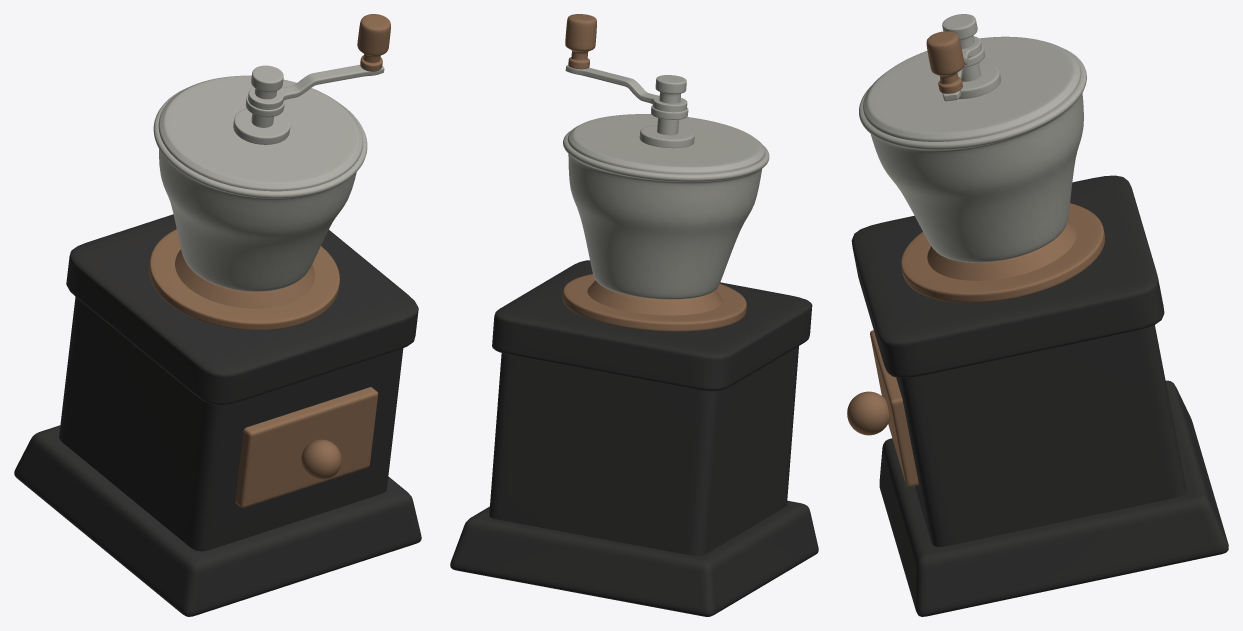
The model's file is vintage-coffee-grinder.glb.
3 renders of one model, left to right at view 1: azimuth 30°, elevation 25°; view 2: azimuth 150°, elevation 25°; view 3: azimuth 270°, elevation 25°, orthographic. The views are drawn at different scales.
Parts seen in each view (by area): view 1: Cube.017, Cube.019, Cube.018, Cylinder.014, Cylinder.015, Cube.020, Cylinder.012, Cylinder.013, Cylinder.019, Cylinder.020, Cylinder.016, Sphere.002 (+1 smaller); view 2: Cube.017, Cube.018, Cylinder.014, Cube.019, Cylinder.015, Cylinder.012, Cylinder.013, Cylinder.020, Cylinder.019, Cylinder.017, Cylinder.016; view 3: Cube.017, Cube.019, Cube.018, Cylinder.014, Cylinder.015, Cylinder.012, Cylinder.013, Cube.020, Cylinder.020, Sphere.002, Cylinder.017, Cylinder.016.
Part boxes in pixels (left/top/right/bottom): Cube.017: left=59, top=297, right=403, bottom=551; Cube.019: left=66, top=214, right=418, bottom=405; Cube.018: left=14, top=425, right=421, bottom=616; Cylinder.014: left=153, top=87, right=367, bottom=291; Cylinder.015: left=158, top=75, right=363, bottom=191; Cube.020: left=235, top=387, right=378, bottom=507; Cylinder.012: left=149, top=229, right=339, bottom=330; Cylinder.013: left=175, top=249, right=314, bottom=308; Cylinder.019: left=248, top=64, right=384, bottom=109; Cylinder.020: left=357, top=14, right=390, bottom=71; Cylinder.016: left=233, top=108, right=290, bottom=144; Sphere.002: left=301, top=439, right=341, bottom=479; Cube.017: left=489, top=346, right=798, bottom=555; Cube.018: left=450, top=500, right=818, bottom=616; Cylinder.014: left=563, top=130, right=769, bottom=299; Cube.019: left=492, top=260, right=812, bottom=391; Cylinder.015: left=567, top=114, right=765, bottom=174; Cylinder.012: left=562, top=274, right=746, bottom=331; Cylinder.013: left=587, top=280, right=722, bottom=315; Cylinder.020: left=565, top=14, right=596, bottom=69; Cylinder.019: left=565, top=65, right=687, bottom=112; Cylinder.017: left=655, top=75, right=686, bottom=135; Cylinder.016: left=639, top=125, right=694, bottom=148; Cube.017: left=896, top=325, right=1186, bottom=546; Cube.019: left=851, top=175, right=1164, bottom=378; Cube.018: left=879, top=380, right=1228, bottom=616; Cylinder.014: left=859, top=49, right=1086, bottom=262; Cylinder.015: left=863, top=36, right=1081, bottom=141; Cylinder.012: left=901, top=203, right=1104, bottom=302; Cylinder.013: left=927, top=220, right=1076, bottom=280; Cube.020: left=870, top=330, right=918, bottom=486; Cylinder.020: left=926, top=31, right=964, bottom=93; Sphere.002: left=847, top=391, right=889, bottom=435; Cylinder.017: left=942, top=14, right=980, bottom=81; Cylinder.016: left=940, top=62, right=1000, bottom=98.
Bounding box in the file's own units: 3.92 × 6.92 × 4.23.
